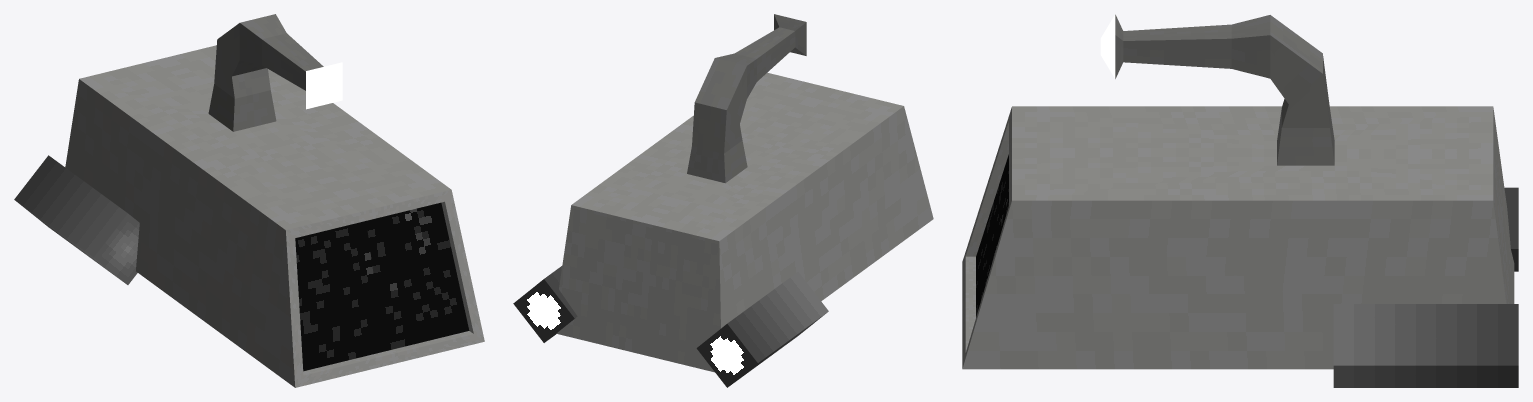
File: miner.glb
3 renders of one model, left to right at view 1: azimuth 30°, elevation 25°; view 2: azimuth 150°, elevation 25°; view 3: azimuth 270°, elevation 25°, orthographic. The views are drawn at different scales.
Parts seen in each view (by area): view 1: Cube; view 2: Cube; view 3: Cube.
Boxes of the visible parts, <box> form: Cube: <box>14,14,484,387</box>; Cube: <box>513,14,933,387</box>; Cube: <box>962,14,1518,387</box>.
Size of the model in its own units: 3.3 by 3.02 by 4.99.
1 material, 1 textured.
